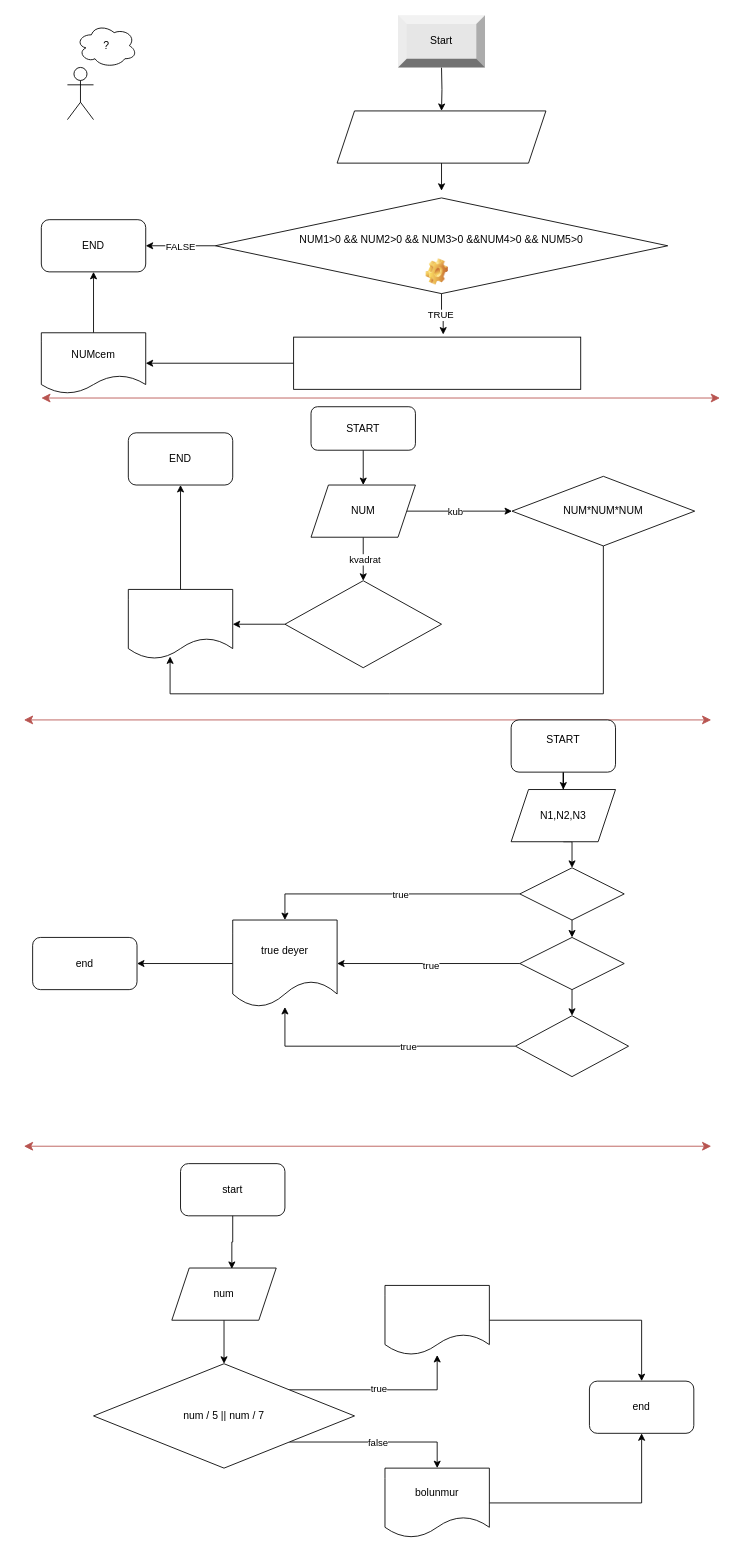
Some shapes in this 745 by 1553 pixel diagram are drawn without their labels. The shapes that lost their labels are listed below. From the top down, each one's centre as x and y in pixels, then its label:
At (80,93): "Actor".
At (441,136): "NUM1 ,NUM2 , NUM3 , NUM4 , NUM5 , NUMcem".
At (437,362): "NUMcem=NUM1+NUM2+NUM3+NUM4+NUM5".
At (180,624): "CAVAB".
At (363,624): "NUM*NUM".
At (571,893): "n1>n2 && n1>n3".
At (571,963): "n2>n1&&n2>n3".
At (572,1046): "n3>n1 &&n3>n2".
At (436,1320): "bolunur".
